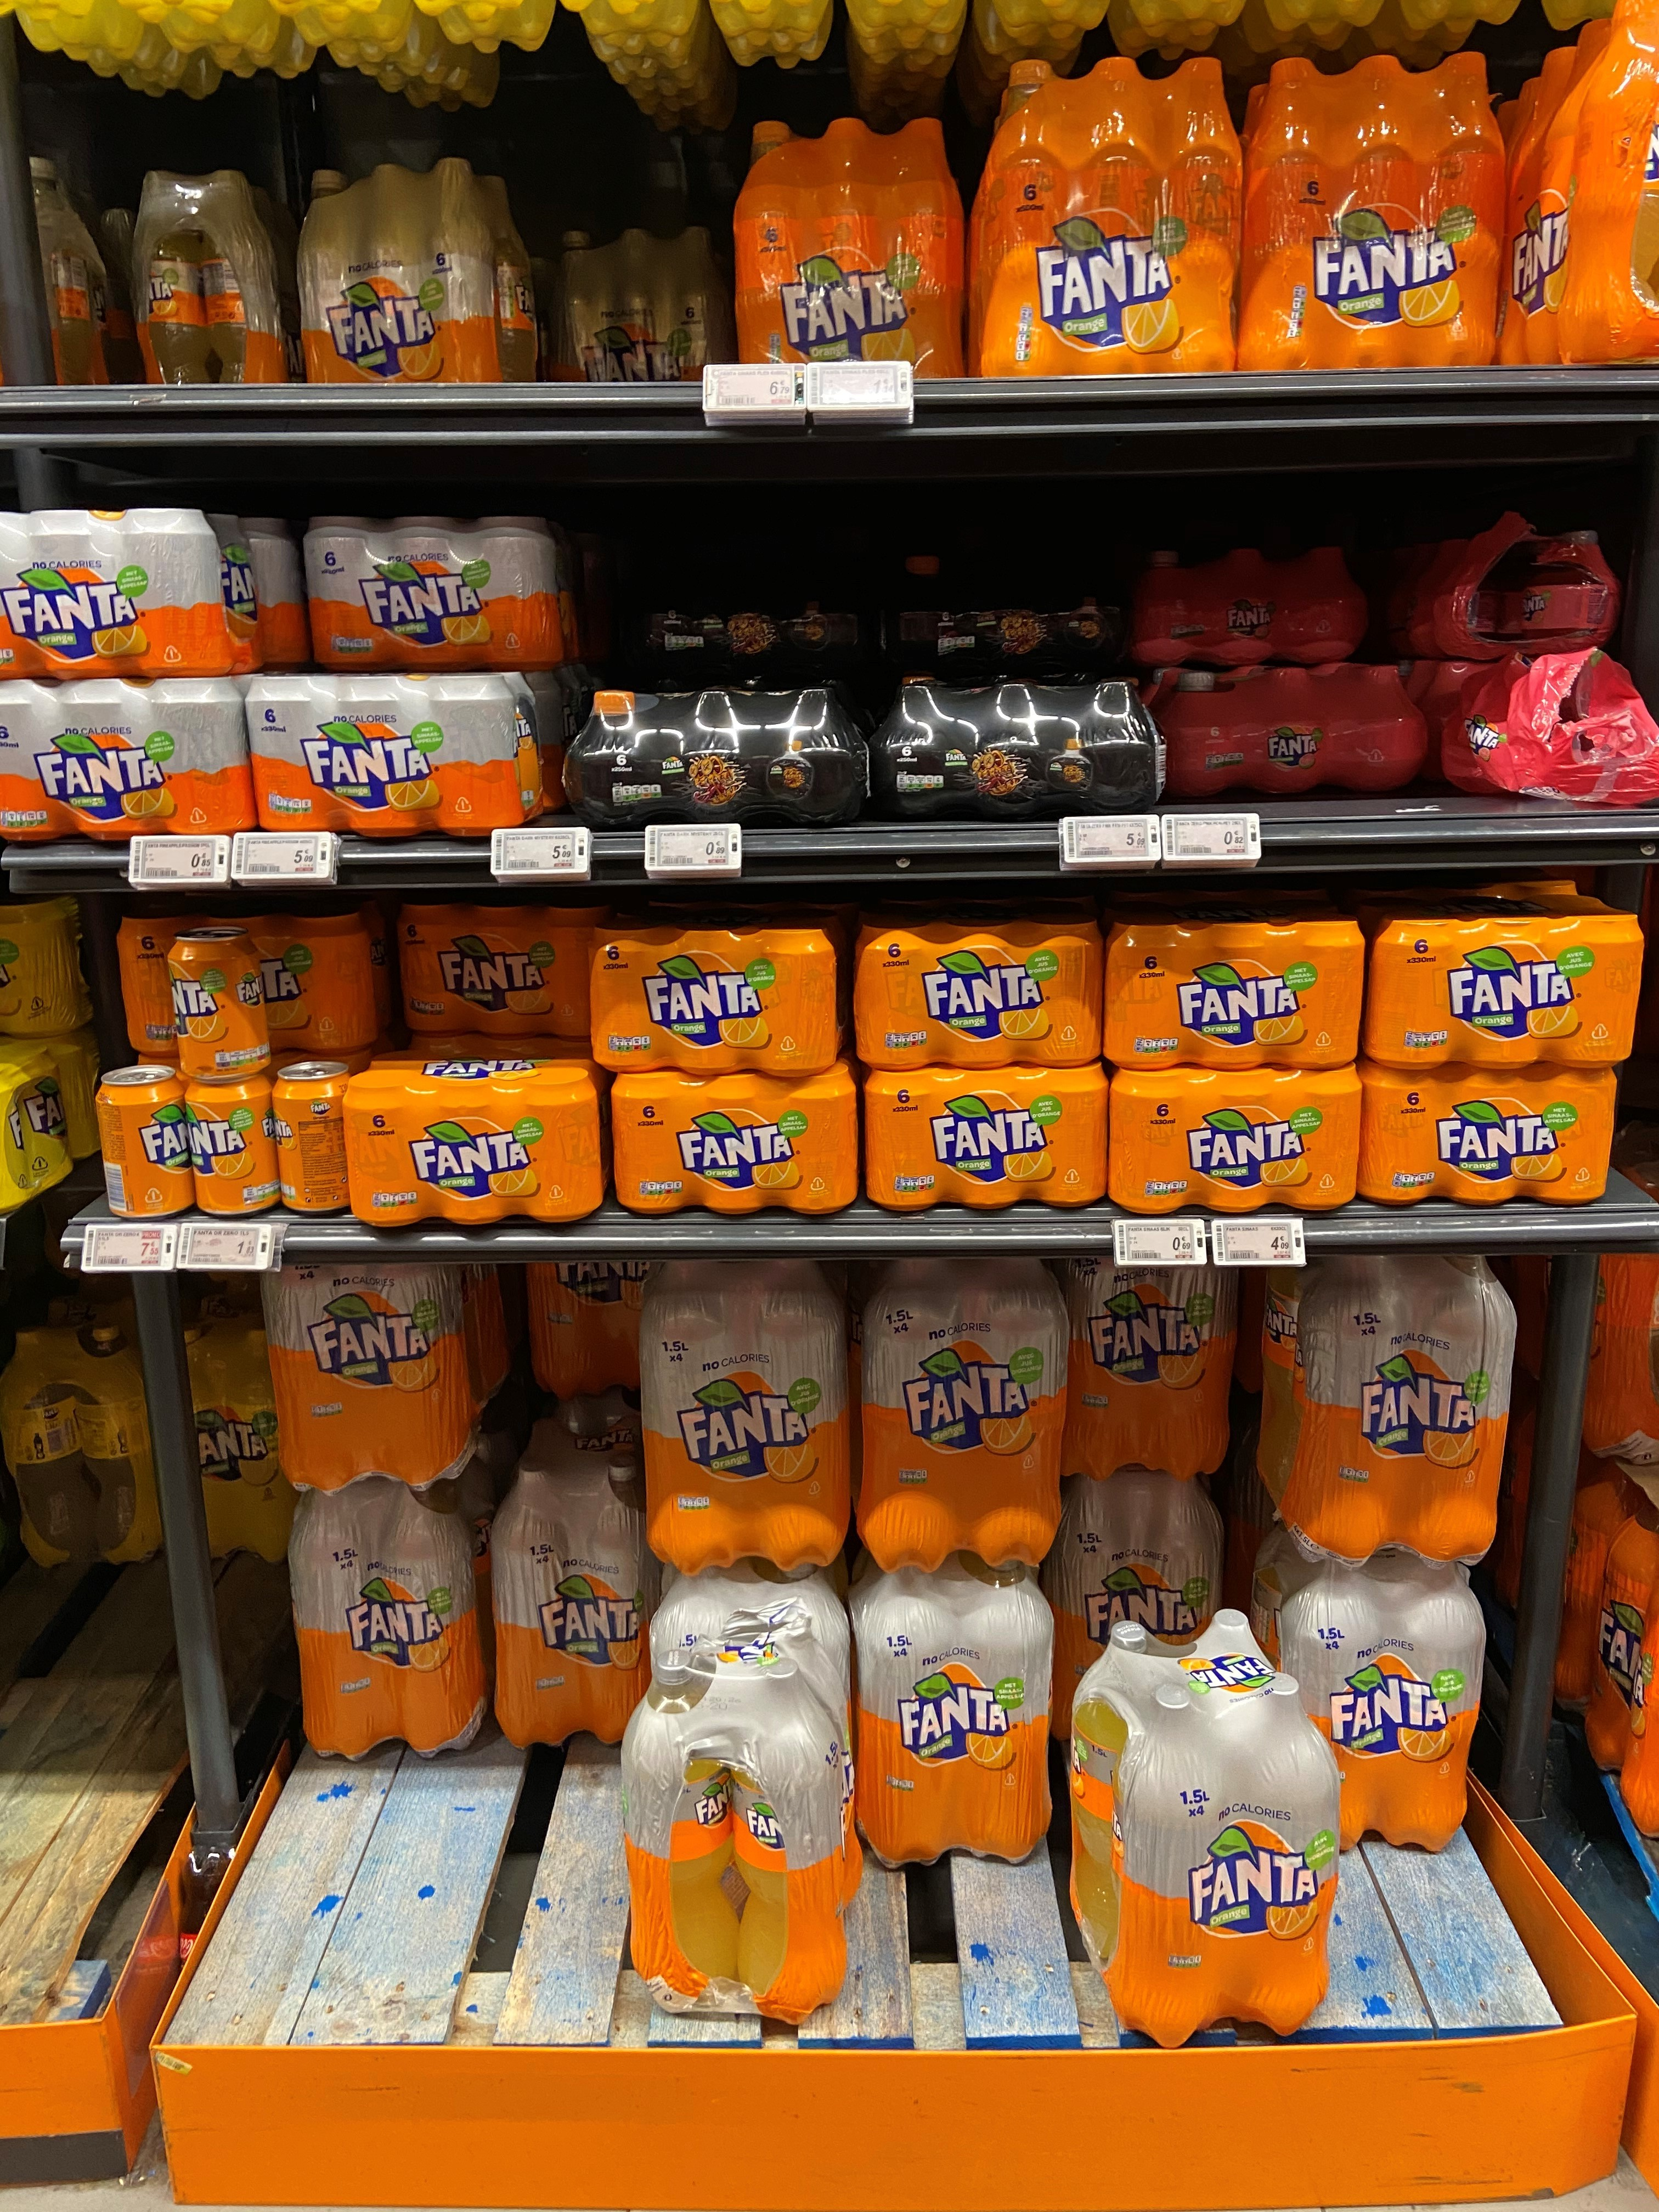FantaDarkOrange: (563, 688, 877, 822), (870, 678, 1169, 813), (601, 575, 873, 681), (878, 557, 1129, 671)
FantaLemonFles: (2, 1270, 159, 1580), (162, 1282, 305, 1564)
FantaOrangeBlik330ml: (167, 925, 274, 1085), (96, 1064, 192, 1224), (186, 1068, 281, 1219), (274, 1061, 356, 1216)
FantaOrangeBlik6x330ml: (1363, 900, 1645, 1068), (343, 1050, 608, 1226), (1107, 902, 1366, 1071), (854, 909, 1112, 1064), (587, 927, 843, 1073), (115, 913, 382, 1052), (863, 1061, 1110, 1211), (1110, 1064, 1359, 1212), (612, 1071, 861, 1216), (1361, 1062, 1617, 1200), (394, 899, 608, 1042)
FantaOrangeFles6x500ml: (969, 57, 1246, 378), (1246, 56, 1506, 374), (735, 117, 967, 392), (1513, 5, 1659, 368)
FantaOrangeNoCalBlik6x330ml: (251, 672, 544, 834), (0, 507, 261, 681), (0, 676, 253, 840), (305, 514, 568, 667)
FantaOrangeNoCalFles: (1068, 1609, 1338, 2050), (626, 1613, 850, 2026), (1253, 1521, 1486, 1857), (1258, 1254, 1507, 1566), (859, 1247, 1072, 1568), (643, 1251, 850, 1573), (854, 1566, 1058, 1869), (490, 1399, 666, 1749), (289, 1467, 484, 1761), (301, 160, 540, 394), (267, 1238, 479, 1487), (1063, 1238, 1234, 1480), (1047, 1479, 1229, 1686), (132, 172, 288, 402), (547, 228, 730, 399), (525, 1228, 666, 1397)
FantaPinkPomelo: (1150, 664, 1427, 799), (1136, 543, 1375, 665), (1431, 524, 1624, 653)
